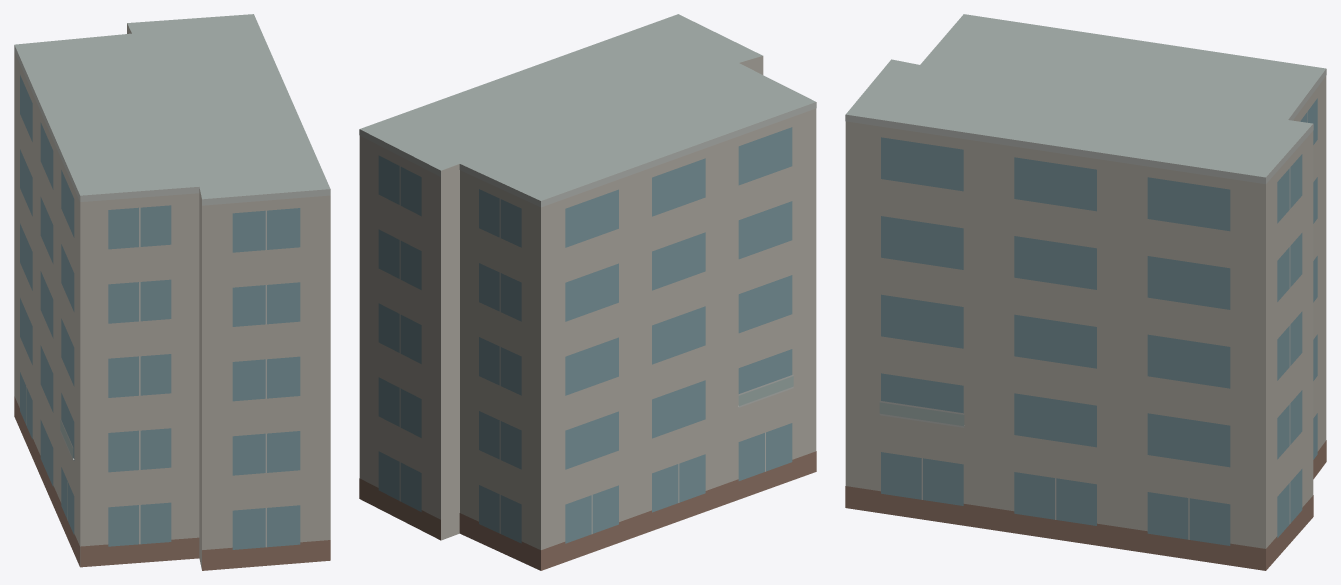
Rendered from survey-upis-32853518.glb.
3 renders of one model, left to right at view 1: azimuth 30°, elevation 25°; view 2: azimuth 150°, elevation 25°; view 3: azimuth 270°, elevation 25°, orthographic. The views are drawn at different scales.
Visible parts, largest first — view 1: survey-upis-32853518.tmp; view 2: survey-upis-32853518.tmp; view 3: survey-upis-32853518.tmp.
Part boxes in pixels (x1,y1,x2,y2): survey-upis-32853518.tmp: (14, 14, 330, 570); survey-upis-32853518.tmp: (359, 14, 816, 570); survey-upis-32853518.tmp: (845, 14, 1326, 570).
Size of the model in its own units: 12.58 by 14.1 by 15.63.
